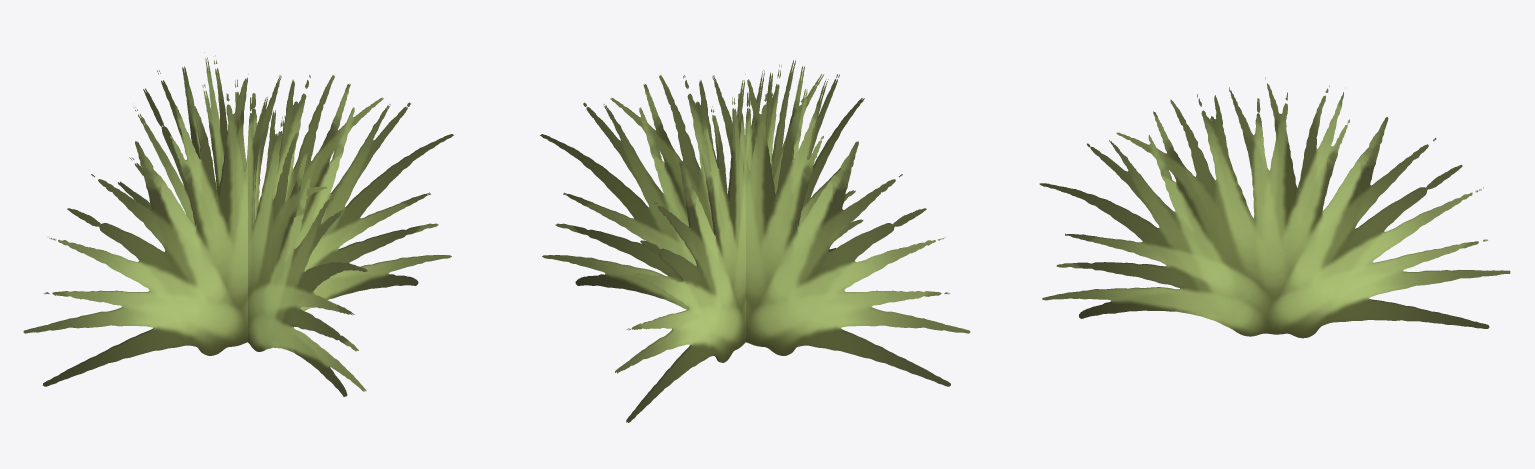
File: HP3_weed2 1.fbx
The picture shows the model from 3 angles, left to right: view 1: azimuth 30°, elevation 25°; view 2: azimuth 150°, elevation 25°; view 3: azimuth 270°, elevation 25°; orthographic projection. The views are drawn at different scales.
Visible parts, largest first — view 1: HP3_weed2; view 2: HP3_weed2; view 3: HP3_weed2.
Boxes of the visible parts, x1=… form: HP3_weed2: x1=23, y1=52, x2=453, y2=396; HP3_weed2: x1=540, y1=60, x2=970, y2=422; HP3_weed2: x1=1039, y1=77, x2=1510, y2=338.
Size of the model in its own units: 10 by 6.65 by 10.
